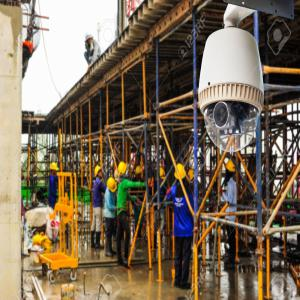white: (85, 31, 93, 45)
yellow: (174, 164, 188, 186), (118, 161, 130, 180), (226, 160, 237, 180), (107, 177, 119, 195), (49, 161, 59, 177), (157, 168, 167, 184), (94, 165, 104, 180), (135, 166, 143, 181)
